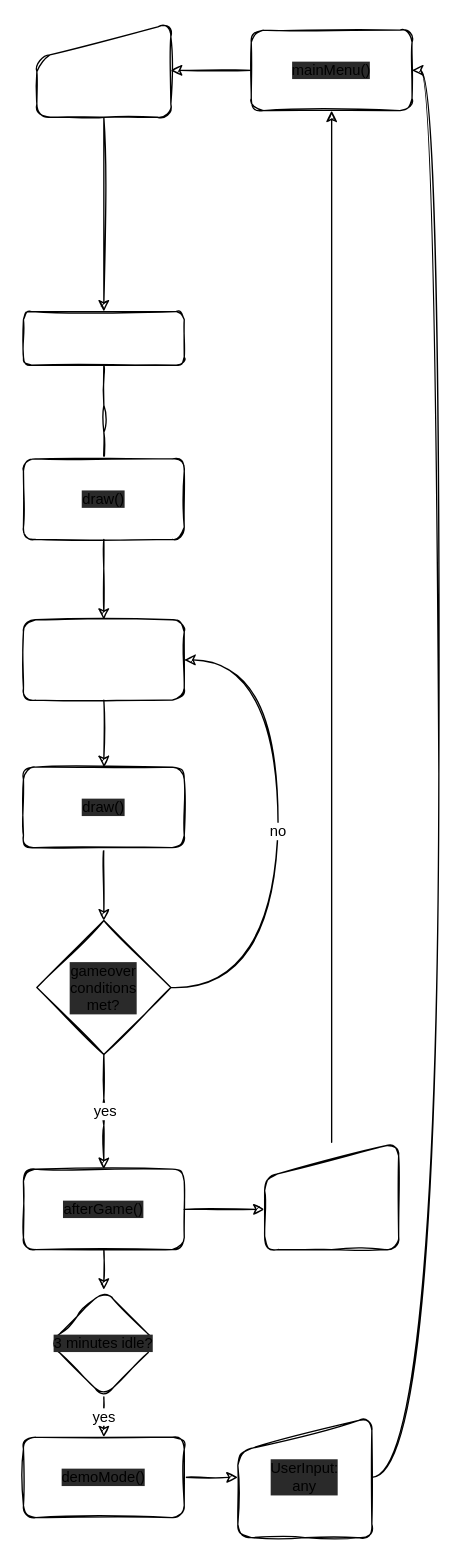
Some shapes in this 464 by 1561 pixel diagram are drawn without their labels. The centre of each missing label's shape, as x and y in pixels:
startRace(): point (103, 337)
update(): point (103, 659)
UserInput: Main Menu: point (331, 1195)
UserInput: Start Race: point (103, 69)
